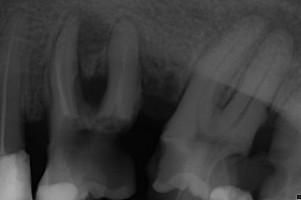Dental Caries: (77, 9, 115, 108)
Furcation Involvement: (248, 7, 301, 61)
